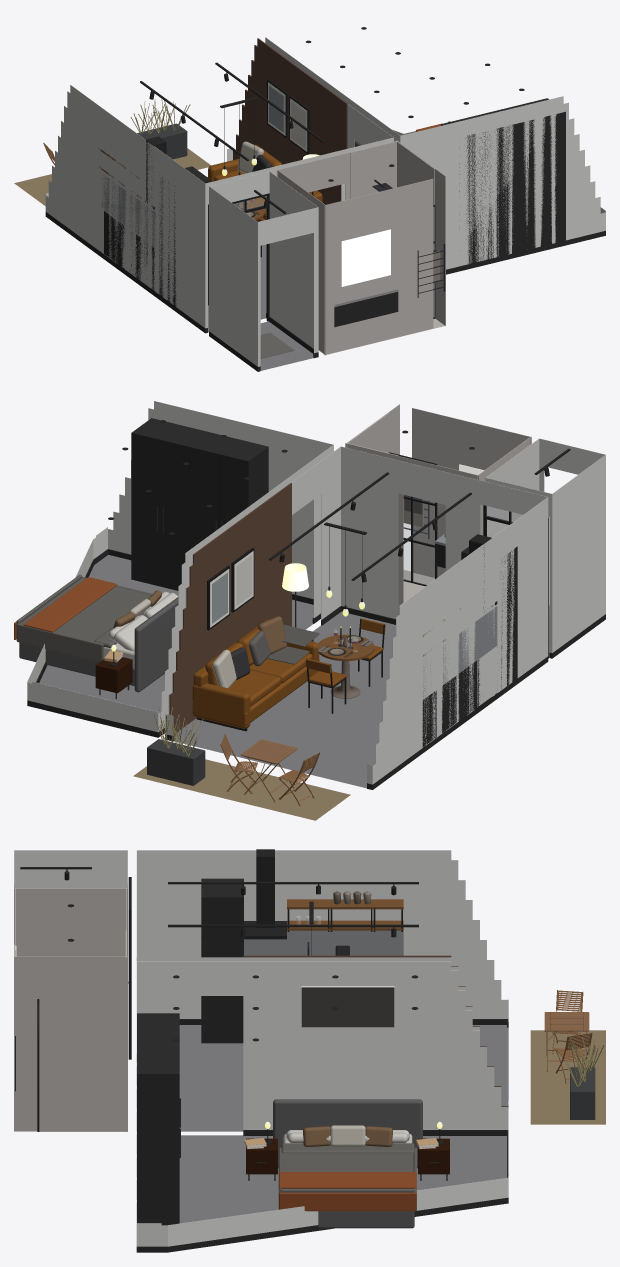
Rendered from unit-2.B-urban.glb.
3 views of the same model, one above another, from view 1: azimuth 30°, elevation 25°; view 2: azimuth 150°, elevation 25°; view 3: azimuth 270°, elevation 25° (orthographic). The views are drawn at different scales.
Visible parts, largest first — view 1: int-wall, int-bathWall, int-joineryTall, int-feature, int-showerWall, int-ledStrip, int-skirting, int-joinery, int-splash, int-hallFloor, int-deck, int-matteBlack (+13 smaller); view 2: int-wall, int-floor, int-joineryTall, int-feature, int-bathWall, int-sofa, int-duvet, int-deck, int-headboard, int-skirting, int-glass, int-joinery (+24 smaller); view 3: int-wall, int-bathWall, int-floor, int-joineryTall, int-headboard, int-deck, int-bedThrow, int-duvet, int-art:7:1, int-splash, int-skirting, int-matteBlack (+13 smaller).
Part boxes in pixels (x1,y1,x2,y2): int-wall: [45, 37, 605, 366]; int-bathWall: [276, 140, 445, 355]; int-joineryTall: [159, 98, 565, 327]; int-feature: [233, 38, 347, 204]; int-showerWall: [350, 140, 434, 317]; int-ledStrip: [341, 229, 390, 286]; int-skirting: [45, 212, 605, 371]; int-joinery: [104, 211, 154, 289]; int-splash: [99, 174, 159, 245]; int-hallFloor: [260, 321, 313, 370]; int-deck: [14, 148, 210, 205]; int-matteBlack: [90, 72, 293, 299]; int-wall: [27, 401, 605, 784]; int-floor: [39, 555, 395, 788]; int-joineryTall: [131, 418, 517, 691]; int-feature: [166, 483, 291, 733]; int-bathWall: [345, 404, 531, 614]; int-sofa: [192, 619, 319, 728]; int-duvet: [16, 574, 152, 661]; int-deck: [133, 759, 350, 820]; int-headboard: [19, 597, 178, 692]; int-skirting: [27, 549, 605, 789]; int-glass: [404, 495, 522, 584]; int-joinery: [422, 647, 497, 746]; int-wall: [14, 850, 508, 1246]; int-bathWall: [14, 888, 127, 1131]; int-floor: [179, 1025, 508, 1223]; int-joineryTall: [137, 878, 243, 1225]; int-headboard: [273, 1099, 422, 1228]; int-deck: [530, 1030, 605, 1124]; int-bedThrow: [279, 1172, 416, 1211]; int-duvet: [278, 1143, 416, 1209]; int-art:7:1: [301, 987, 394, 1027]; int-splash: [244, 930, 403, 955]; int-skirting: [136, 1019, 508, 1252]; int-matteBlack: [64, 849, 443, 1144].
Bounding box in the file's own units: 7.52 × 2.7 × 8.26.
